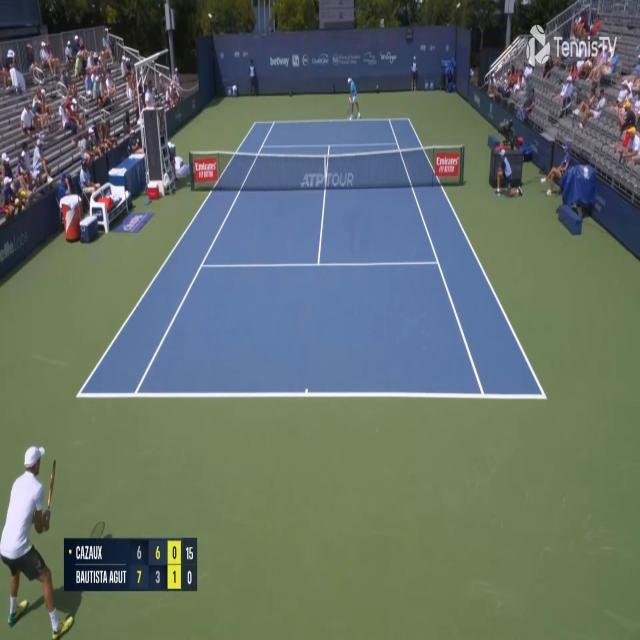tennis-player: (0, 441, 73, 639), (346, 75, 361, 122)
